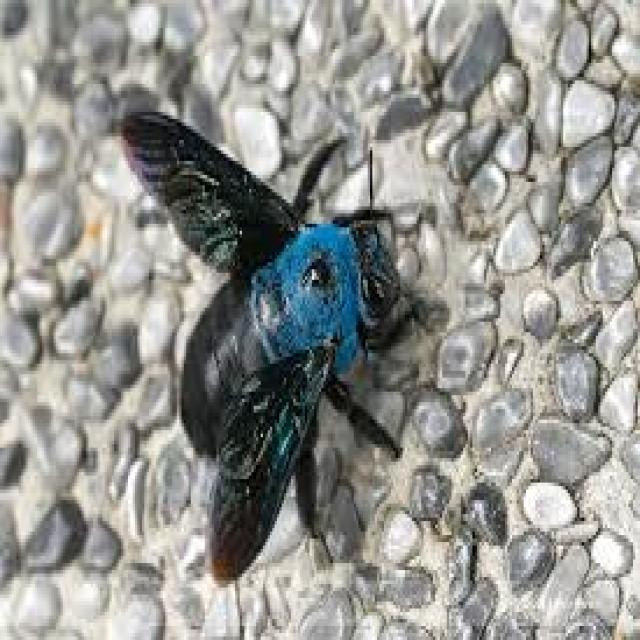Xylocopa: (114, 83, 420, 575)
